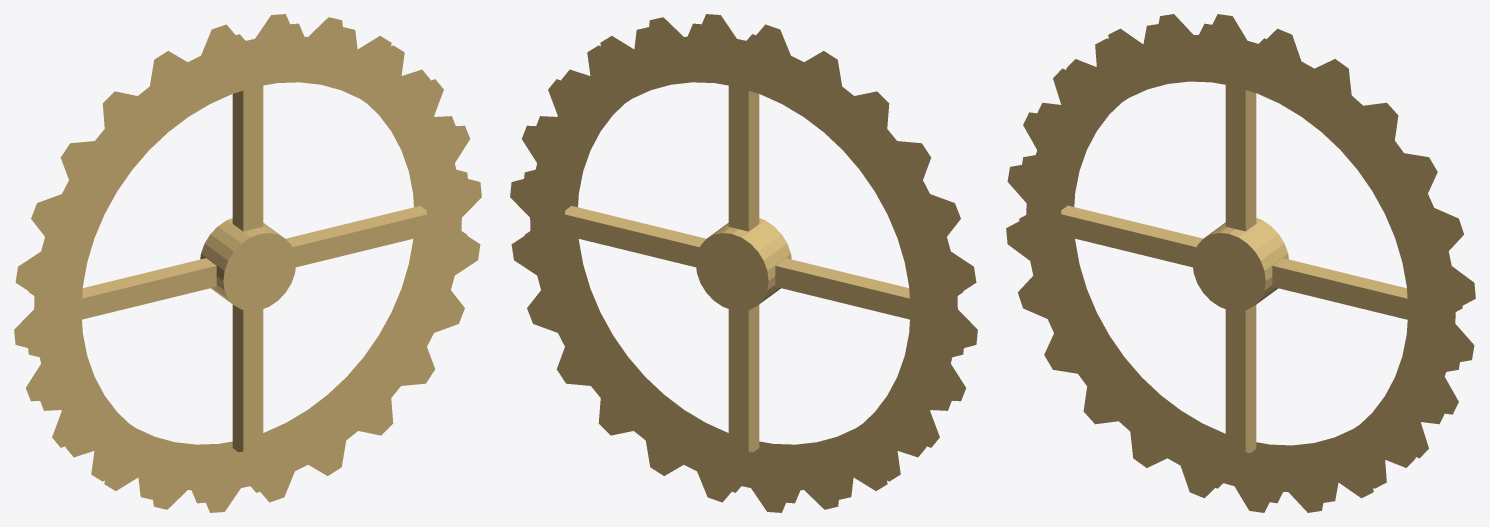
Rendered from wheel_small.glb.
The picture shows the model from 3 angles, left to right: view 1: azimuth 30°, elevation 25°; view 2: azimuth 150°, elevation 25°; view 3: azimuth 330°, elevation 25°; orthographic projection.
Parts seen in each view (by area): view 1: wheel_small; view 2: wheel_small; view 3: wheel_small.
Boxes of the visible parts, box(x1,y1,x2,y2) form: wheel_small: box(14, 14, 481, 512); wheel_small: box(510, 14, 977, 512); wheel_small: box(1006, 14, 1475, 512).
Size of the model in its own units: 0.9979 by 0.9979 by 0.09.
